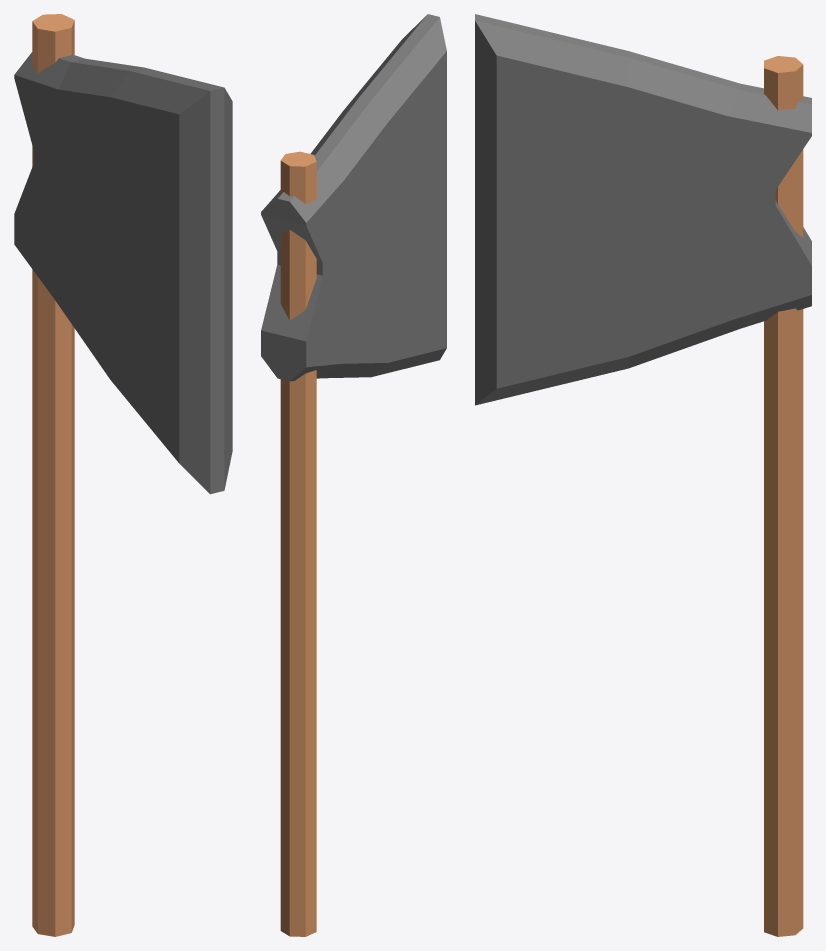
The model's file is axe3.fbx.
3 views of the same model, side by side, from view 1: azimuth 30°, elevation 25°; view 2: azimuth 150°, elevation 25°; view 3: azimuth 270°, elevation 25° (orthographic). The views are drawn at different scales.
Visible parts, largest first — view 1: axe3; view 2: axe3; view 3: axe3.
Part boxes in pixels (x1=…): axe3: x1=14, y1=14, x2=232, y2=936; axe3: x1=261, y1=14, x2=446, y2=936; axe3: x1=475, y1=14, x2=811, y2=936.
Size of the model in its own units: 4.52 by 77.51 by 25.94.
